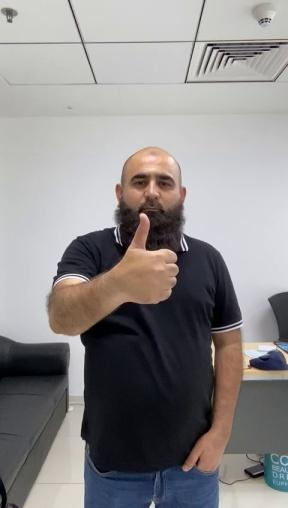thumbs-up: (108, 209, 183, 306)
